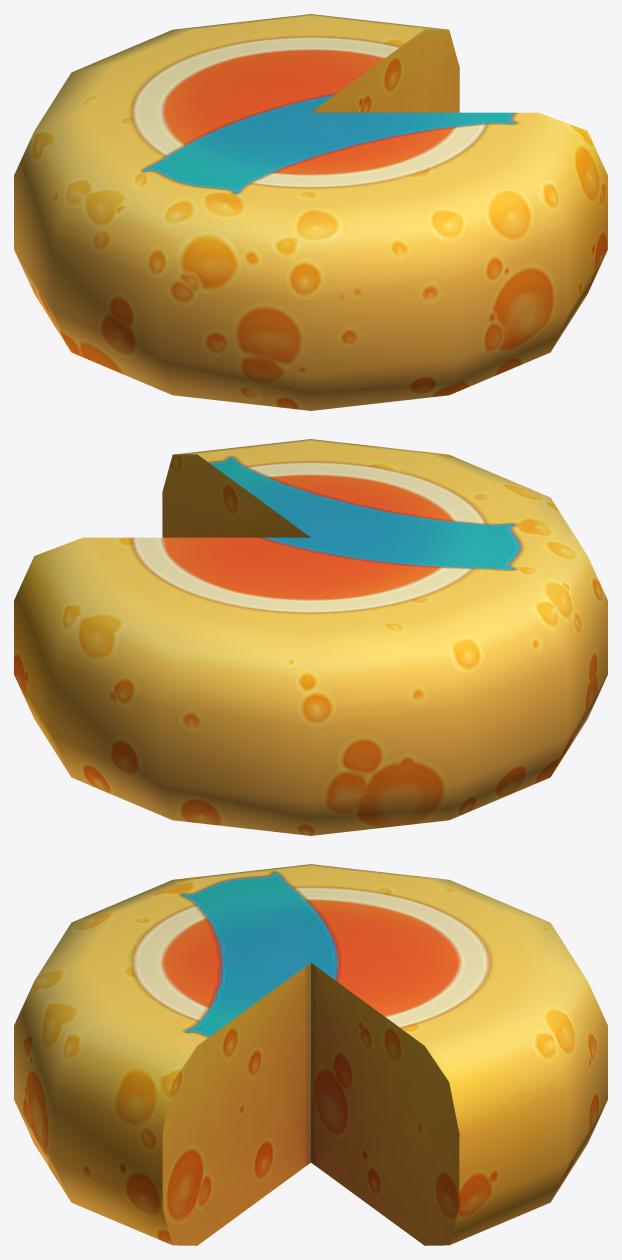
The model's file is SE_Cheese_02.fbx.
3 views of the same model, one above another, from view 1: azimuth 30°, elevation 25°; view 2: azimuth 150°, elevation 25°; view 3: azimuth 270°, elevation 25° (orthographic).
Parts seen in each view (by area): view 1: SE_Cheese_02; view 2: SE_Cheese_02; view 3: SE_Cheese_02.
Part boxes in pixels (<box>): SE_Cheese_02: <box>14,14,607,410</box>; SE_Cheese_02: <box>14,439,607,835</box>; SE_Cheese_02: <box>14,864,607,1245</box>.
Bounding box in the file's own units: 1.8 × 0.7172 × 1.93.
